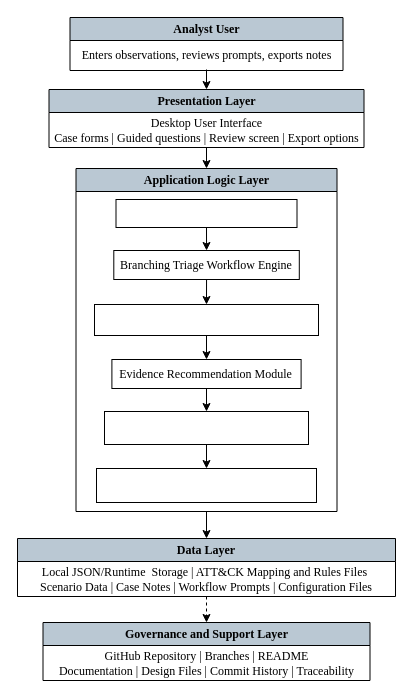
The diagram is 413 pixels wide and 698 high, and some of its shapes have lost their labels. Here are the shapes that lost their labels. From the top down, the centre of each, then its label:
At (206,213): "Case Intake and Observation Entry".
At (206,320): "ATT&CK Mapping and Rule Logic Module".
At (206,427): "Risk Summary and Analyst Review".
At (206,485): "Export and Case Documentation Module".
